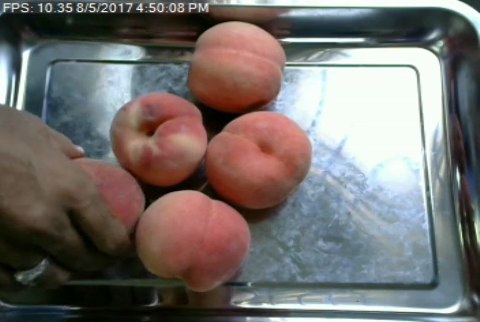Peach: (136, 189, 249, 291), (205, 109, 310, 210), (108, 90, 207, 186), (188, 20, 284, 112)
